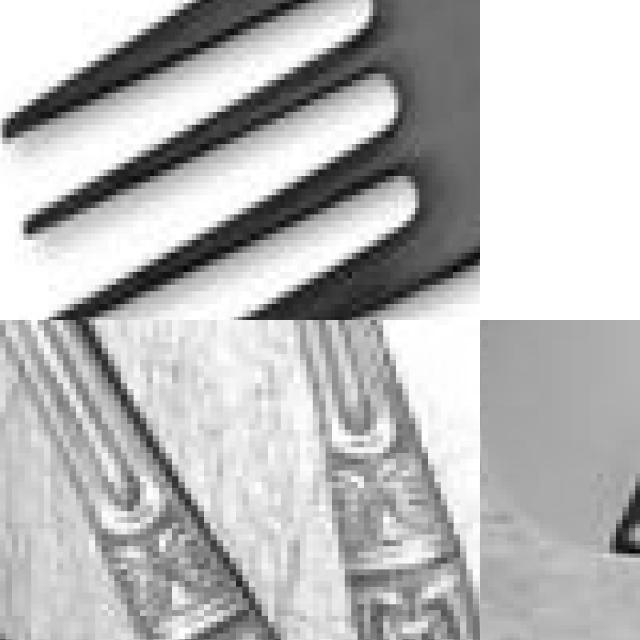forks: (0, 0, 480, 320)
